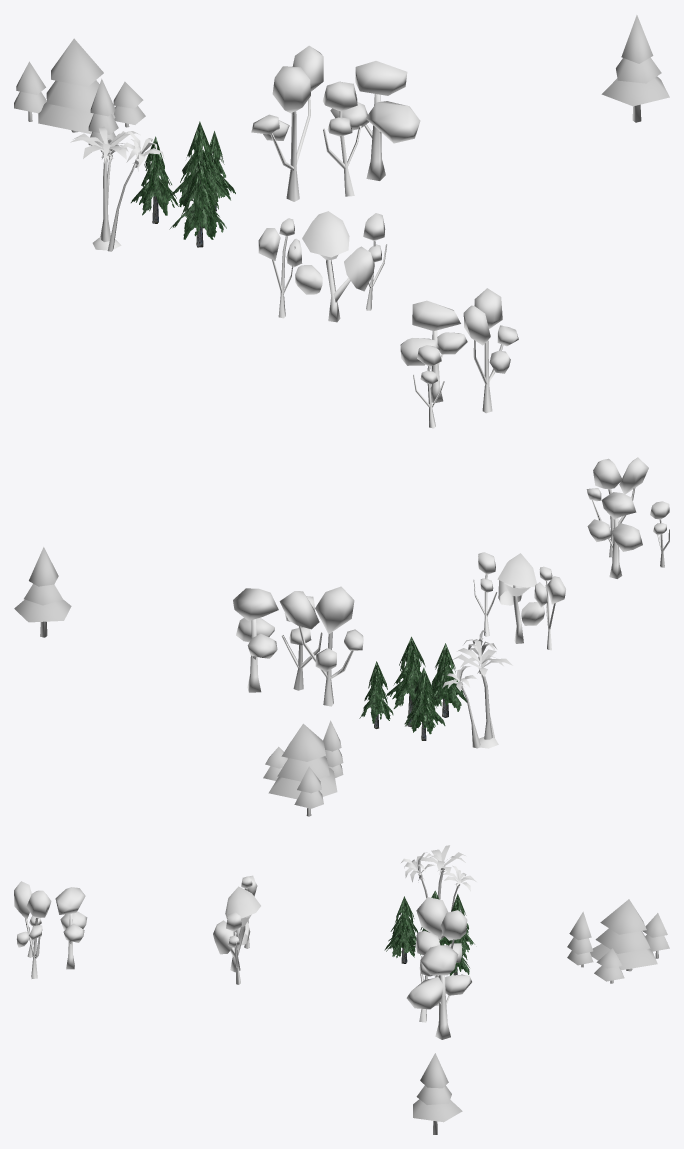
File: conifer_forest.dae
3 views of the same model, one above another, from view 1: azimuth 30°, elevation 25°; view 2: azimuth 150°, elevation 25°; view 3: azimuth 270°, elevation 25° (orthographic). The views are drawn at different scales.
Visible parts, largest first — view 1: birch_A_impassable, conifer01, deciduous_A, birch_A, conifer_forest, Circle.005, palm_impassable; view 2: birch_A_impassable, conifer_forest, conifer01, birch_A, deciduous_A, Circle.005, palm_impassable; view 3: birch_A_impassable, conifer01, birch_A, deciduous_A, Circle.005, conifer_forest, palm_impassable.
Part boxes in pixels (bbox=[...]): birch_A_impassable: bbox=[251, 45, 420, 201]; conifer01: bbox=[14, 38, 145, 151]; deciduous_A: bbox=[258, 211, 386, 322]; birch_A: bbox=[400, 288, 518, 428]; conifer_forest: bbox=[131, 121, 235, 247]; Circle.005: bbox=[601, 15, 669, 122]; palm_impassable: bbox=[70, 126, 164, 251]; birch_A_impassable: bbox=[233, 586, 363, 706]; conifer_forest: bbox=[359, 636, 466, 740]; conifer01: bbox=[263, 720, 343, 816]; birch_A: bbox=[586, 457, 669, 578]; deciduous_A: bbox=[473, 552, 565, 650]; Circle.005: bbox=[14, 547, 71, 637]; palm_impassable: bbox=[442, 630, 512, 748]; birch_A_impassable: bbox=[406, 897, 471, 1039]; conifer01: bbox=[567, 899, 669, 983]; birch_A: bbox=[14, 881, 87, 978]; deciduous_A: bbox=[213, 875, 260, 984]; Circle.005: bbox=[413, 1053, 462, 1134]; conifer_forest: bbox=[384, 890, 474, 975]; palm_impassable: bbox=[401, 845, 476, 911].
Bounding box in the file's own units: 2.69 × 3.41 × 0.6165.
